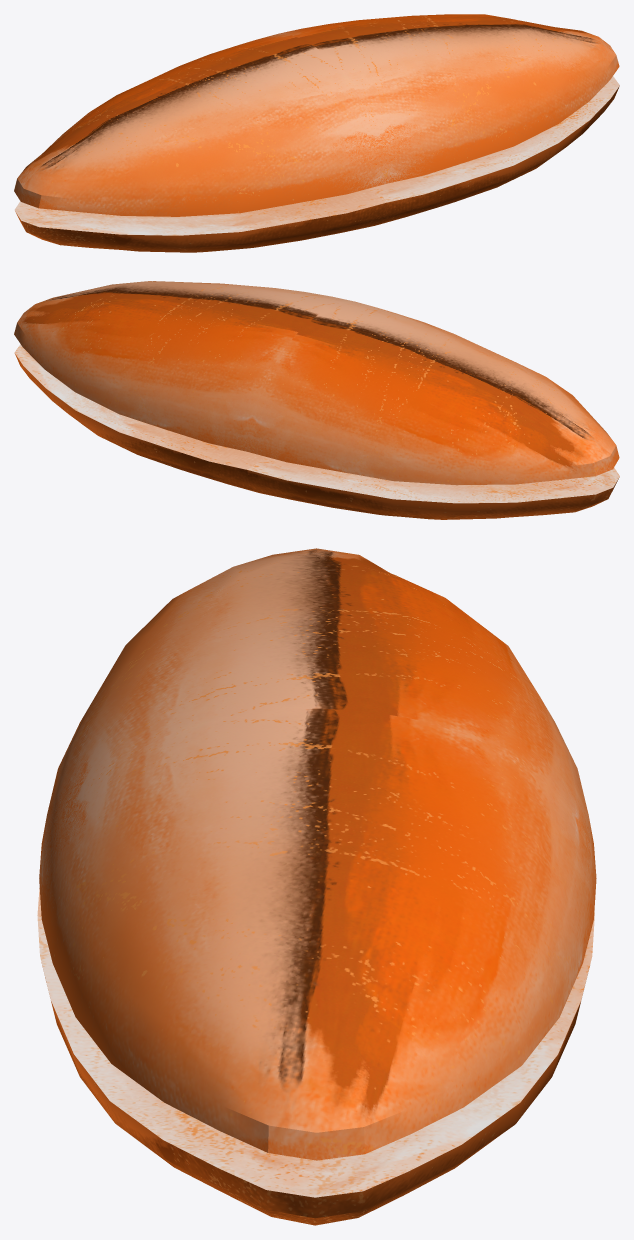
The model's file is ekmek_tam_kapali.fbx.
3 renders of one model, top to bottom at view 1: azimuth 30°, elevation 25°; view 2: azimuth 150°, elevation 25°; view 3: azimuth 270°, elevation 25°, orthographic. The views are drawn at different scales.
Visible parts, largest first — view 1: Sphere.009, Sphere.010; view 2: Sphere.009, Sphere.010; view 3: Sphere.009, Sphere.010.
Part boxes in pixels (x1=…): Sphere.009: x1=14, y1=14, x2=619, y2=216; Sphere.010: x1=14, y1=76, x2=619, y2=252; Sphere.009: x1=14, y1=281, x2=619, y2=485; Sphere.010: x1=14, y1=344, x2=619, y2=519; Sphere.009: x1=39, y1=548, x2=596, y2=1160; Sphere.010: x1=37, y1=888, x2=594, y2=1225.
Size of the model in its own units: 291 by 68.93 by 119.
